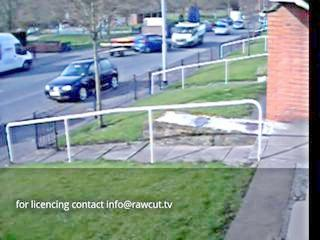Car: (52, 59, 117, 98), (106, 21, 168, 48), (0, 34, 38, 71), (176, 23, 203, 49), (137, 35, 172, 52), (216, 23, 230, 35)
Minor Accident: (105, 21, 170, 51)
